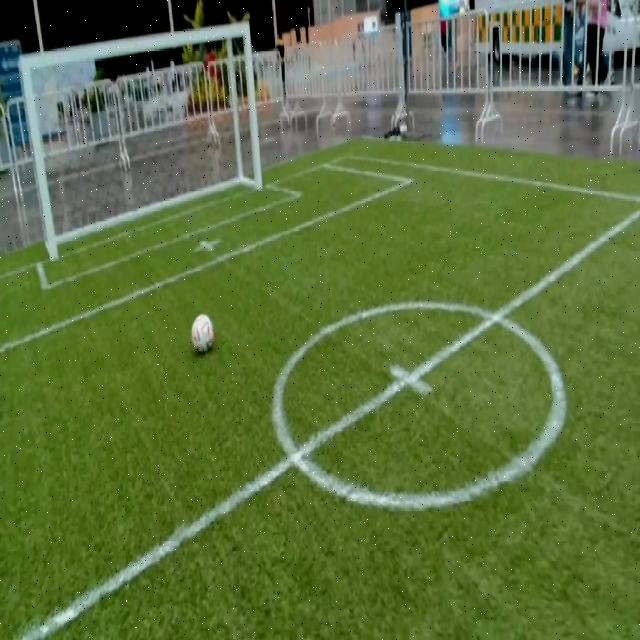ball: (193, 313, 213, 352)
goalpost: (248, 152, 265, 199), (43, 229, 61, 273)
